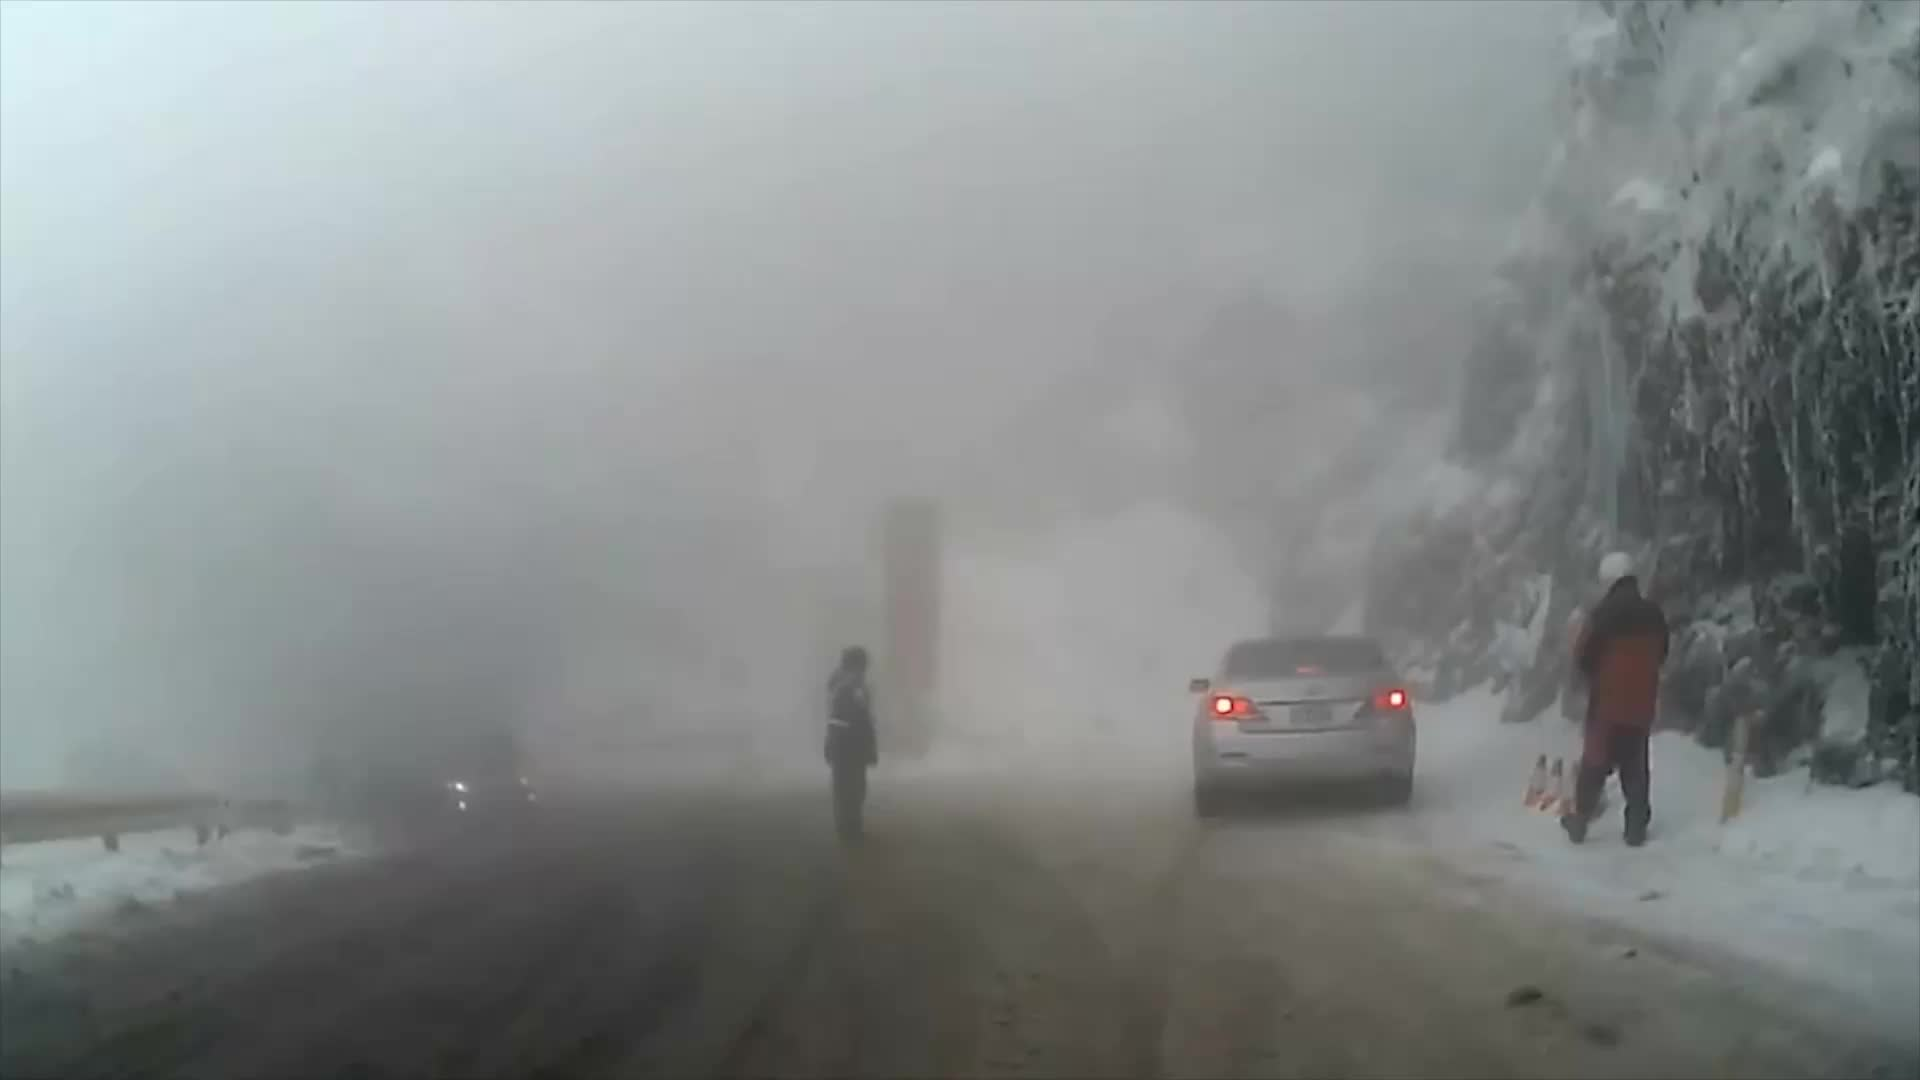pedestrian: (1559, 549, 1672, 848), (824, 647, 880, 848)
vehicle: (1186, 632, 1419, 825)
